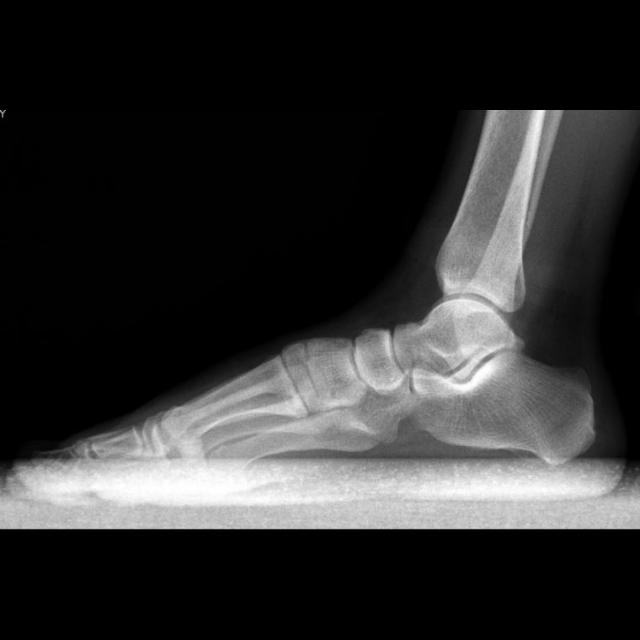a: (411, 349, 595, 465)
b: (354, 327, 406, 395)
c: (159, 355, 307, 440)
